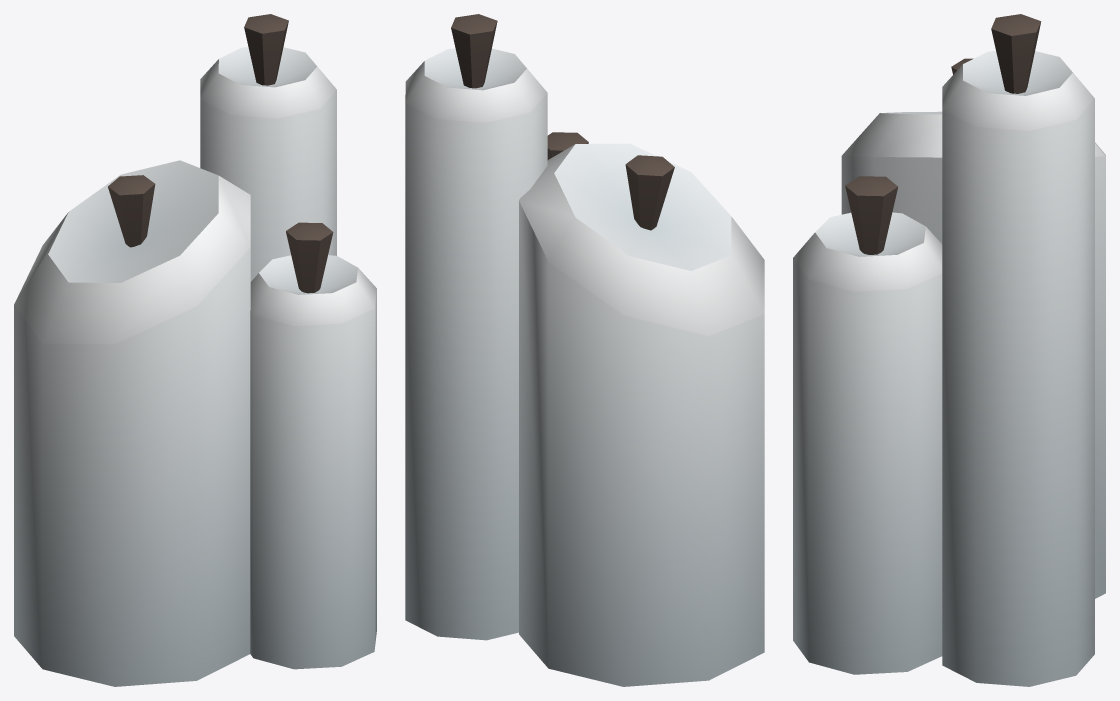
The model's file is candle_triple.obj.
3 views of the same model, side by side, from view 1: azimuth 30°, elevation 25°; view 2: azimuth 150°, elevation 25°; view 3: azimuth 270°, elevation 25° (orthographic). The views are drawn at different scales.
Visible parts, largest first — view 1: candle_triple_Cylinder.115; view 2: candle_triple_Cylinder.115; view 3: candle_triple_Cylinder.115.
Part boxes in pixels (x1,y1,x2,y2): candle_triple_Cylinder.115: (14,14,376,686); candle_triple_Cylinder.115: (405,14,764,686); candle_triple_Cylinder.115: (793,14,1105,686).
Size of the model in its own units: 0.4511 by 0.7857 by 0.3509.
Materials: 1 (1 with a texture image).
